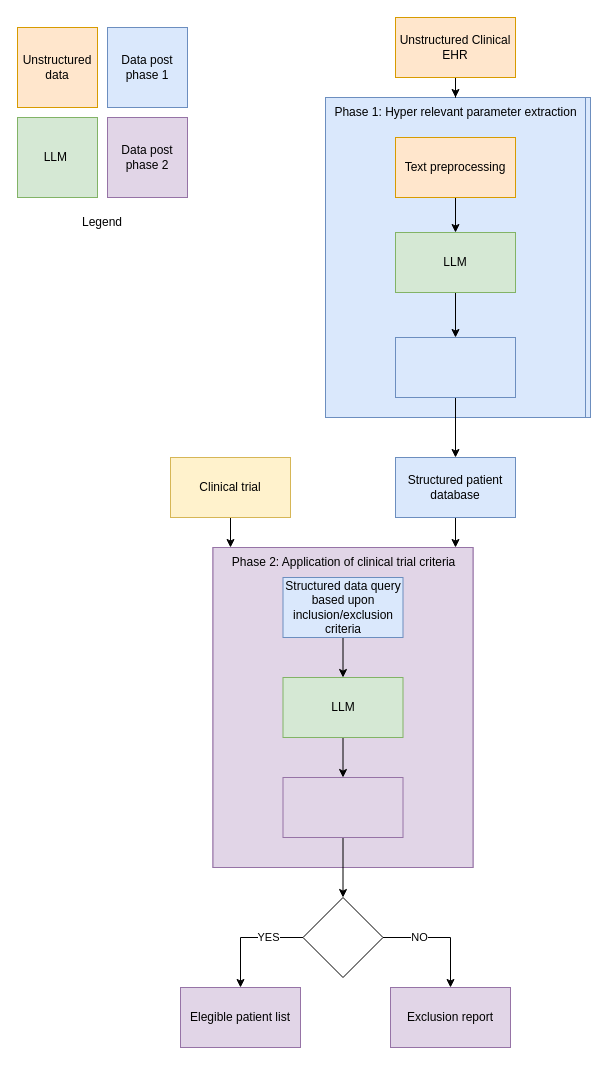
Some shapes in this 608 by 1065 pixel diagram are drawn without their labels. Each missing label, with the centre of its shape:
"Elegible patient?" belongs at point (342, 937).
"Final Decision" belongs at point (342, 807).
"Structured data" belongs at point (455, 367).
